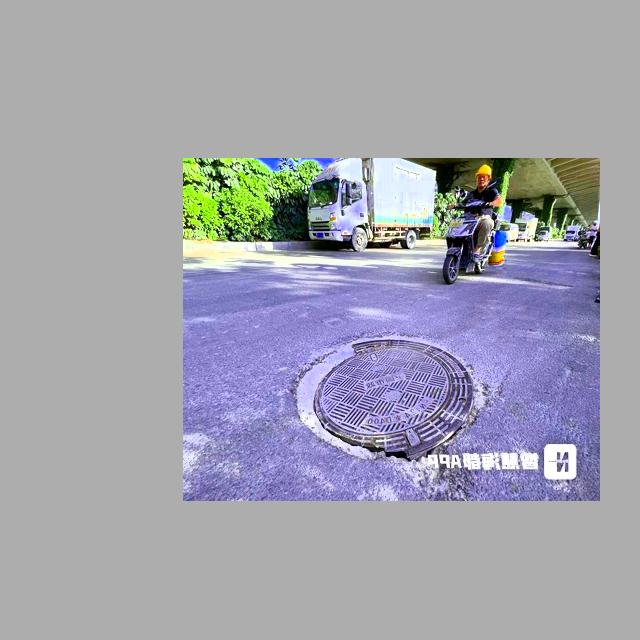circle: (266, 318, 509, 475)
